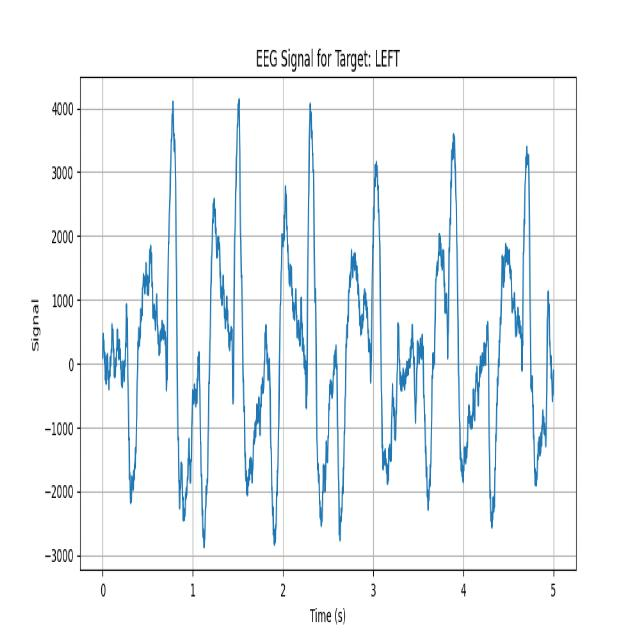LEFT: (472, 87, 549, 553), (332, 91, 405, 552), (193, 95, 267, 543), (404, 89, 472, 551), (265, 95, 333, 548), (135, 98, 192, 538)
